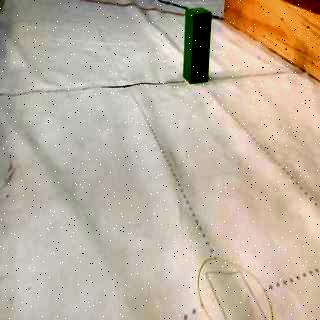greenbox: (184, 5, 214, 86)
